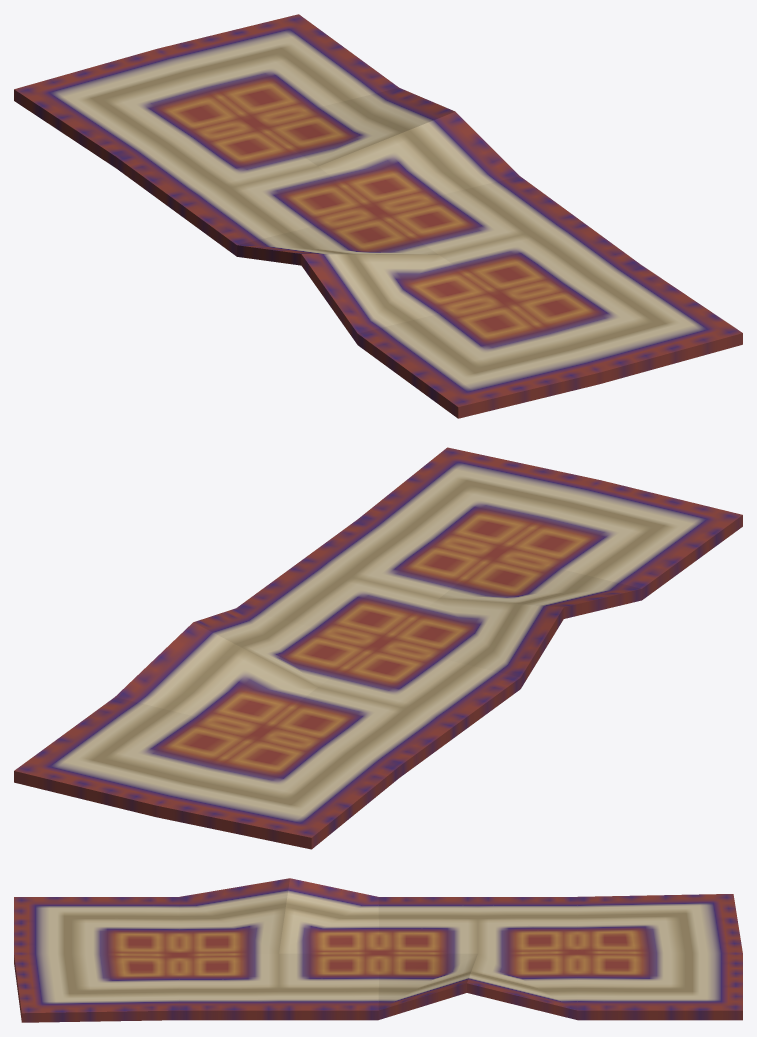
The model's file is SM_Prop_Rug_03.glb.
3 renders of one model, top to bottom at view 1: azimuth 30°, elevation 25°; view 2: azimuth 150°, elevation 25°; view 3: azimuth 270°, elevation 25°, orthographic. The views are drawn at different scales.
Visible parts, largest first — view 1: SM_Prop_Rug_03; view 2: SM_Prop_Rug_03; view 3: SM_Prop_Rug_03.
Boxes of the visible parts, x1=… form: SM_Prop_Rug_03: x1=14, y1=14, x2=742, y2=418; SM_Prop_Rug_03: x1=14, y1=447, x2=742, y2=849; SM_Prop_Rug_03: x1=14, y1=878, x2=742, y2=1022.
Size of the model in its own units: 1.09 by 0.1387 by 2.82.
1 material, 1 textured.
